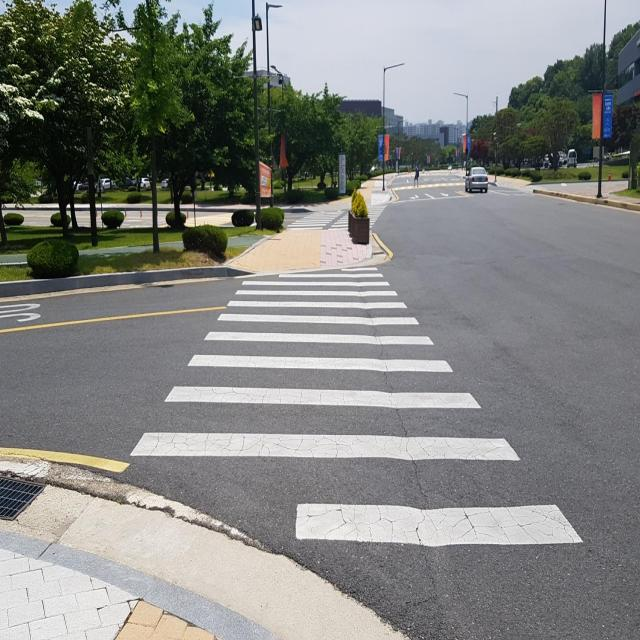횡단보도: (128, 265, 585, 549)
